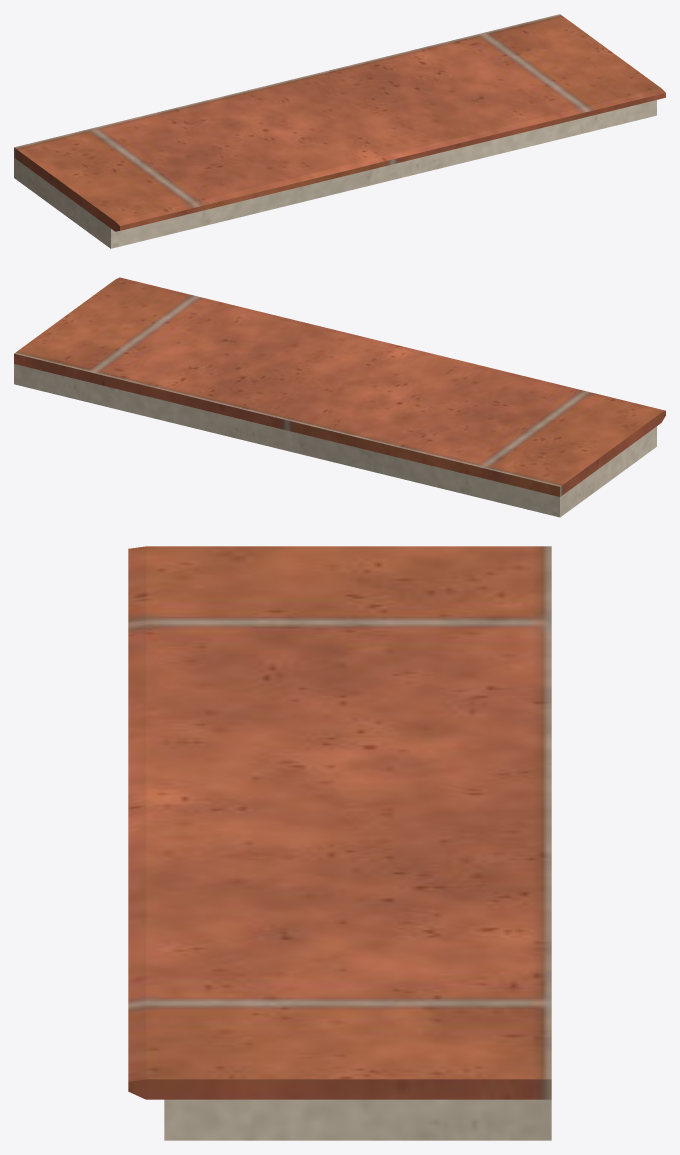
File: step_block.glb
3 views of the same model, one above another, from view 1: azimuth 30°, elevation 25°; view 2: azimuth 150°, elevation 25°; view 3: azimuth 270°, elevation 25° (orthographic). The views are drawn at different scales.
Visible parts, largest first — view 1: step_block_saltillo, step_block_render; view 2: step_block_saltillo, step_block_render; view 3: step_block_saltillo, step_block_render.
Boxes of the visible parts, <box> form: step_block_saltillo: <box>14,14,665,231</box>; step_block_render: <box>14,100,656,248</box>; step_block_saltillo: <box>14,277,665,496</box>; step_block_render: <box>14,364,656,517</box>; step_block_saltillo: <box>128,546,551,1099</box>; step_block_render: <box>164,1099,551,1140</box>.
Bounding box in the file's own units: 1.4 × 0.075 × 0.47.
Materials: 2 (2 with a texture image).
